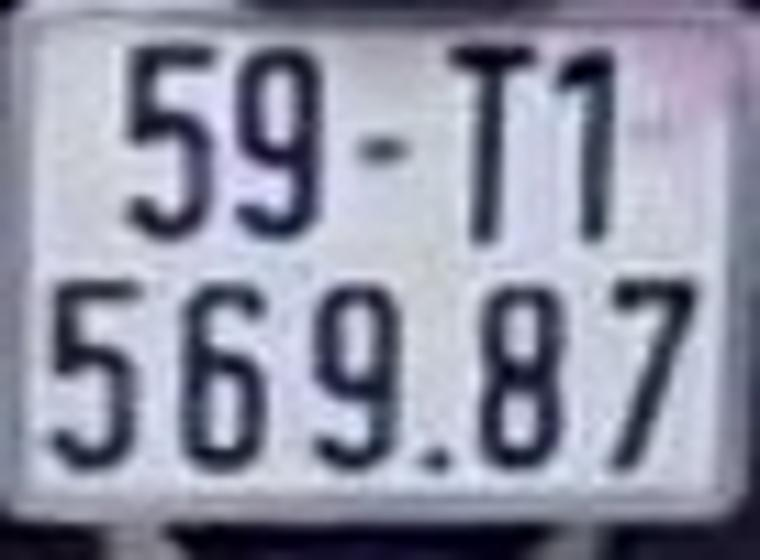-: (357, 135, 414, 171)
1: (549, 41, 639, 252)
5: (119, 29, 222, 244), (46, 266, 149, 475)
6: (167, 272, 277, 478)
7: (604, 265, 704, 478)
8: (478, 276, 574, 474)
9: (223, 42, 332, 246), (308, 278, 406, 477), (414, 439, 455, 486)
T: (444, 37, 539, 250)
